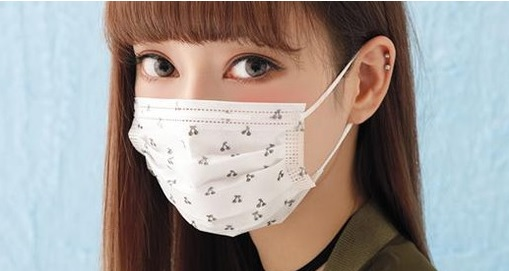with_mask: (135, 46, 318, 193)
